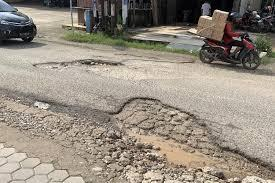Pothole: (0, 92, 272, 182), (25, 52, 135, 81)
